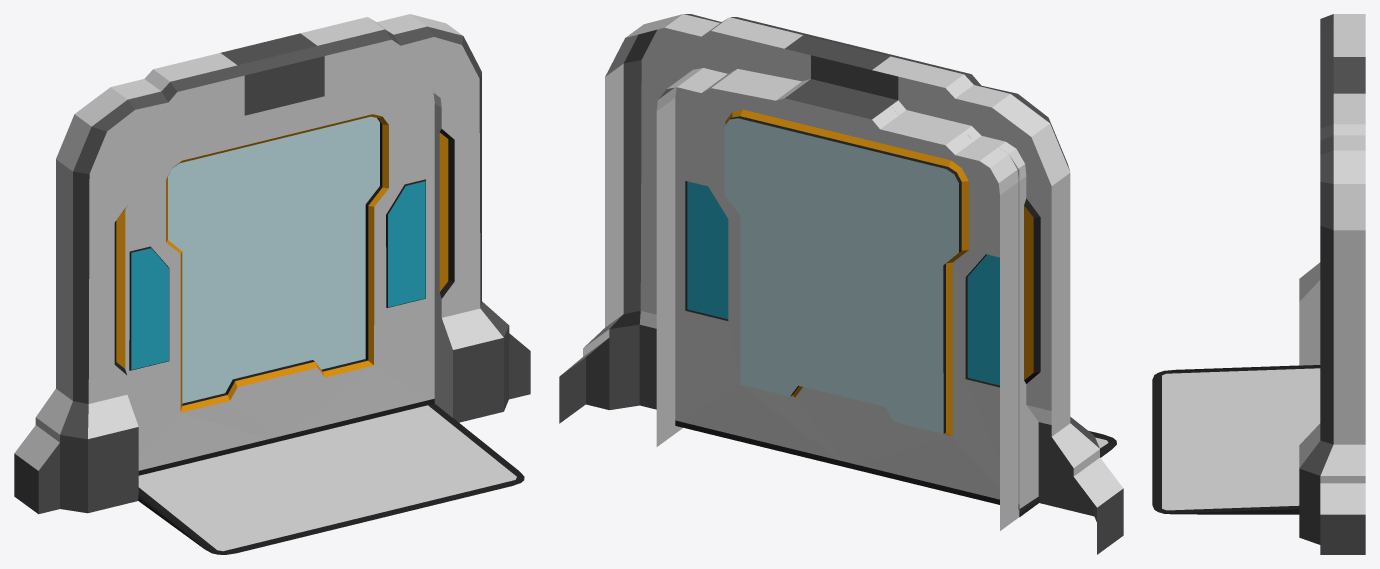
Rendered from gate_defend_asset.fbx.
The picture shows the model from 3 angles, left to right: view 1: azimuth 30°, elevation 25°; view 2: azimuth 150°, elevation 25°; view 3: azimuth 270°, elevation 25°; orthographic projection. The views are drawn at different scales.
Visible parts, largest first — view 1: gate_defend_asset_finished:gate_defend; view 2: gate_defend_asset_finished:gate_defend; view 3: gate_defend_asset_finished:gate_defend.
Part boxes in pixels (x1,y1,x2,y2): gate_defend_asset_finished:gate_defend: (14,14,530,554); gate_defend_asset_finished:gate_defend: (559,14,1123,554); gate_defend_asset_finished:gate_defend: (1152,14,1365,554).
Bounding box in the file's own units: 336 × 257 × 135.
